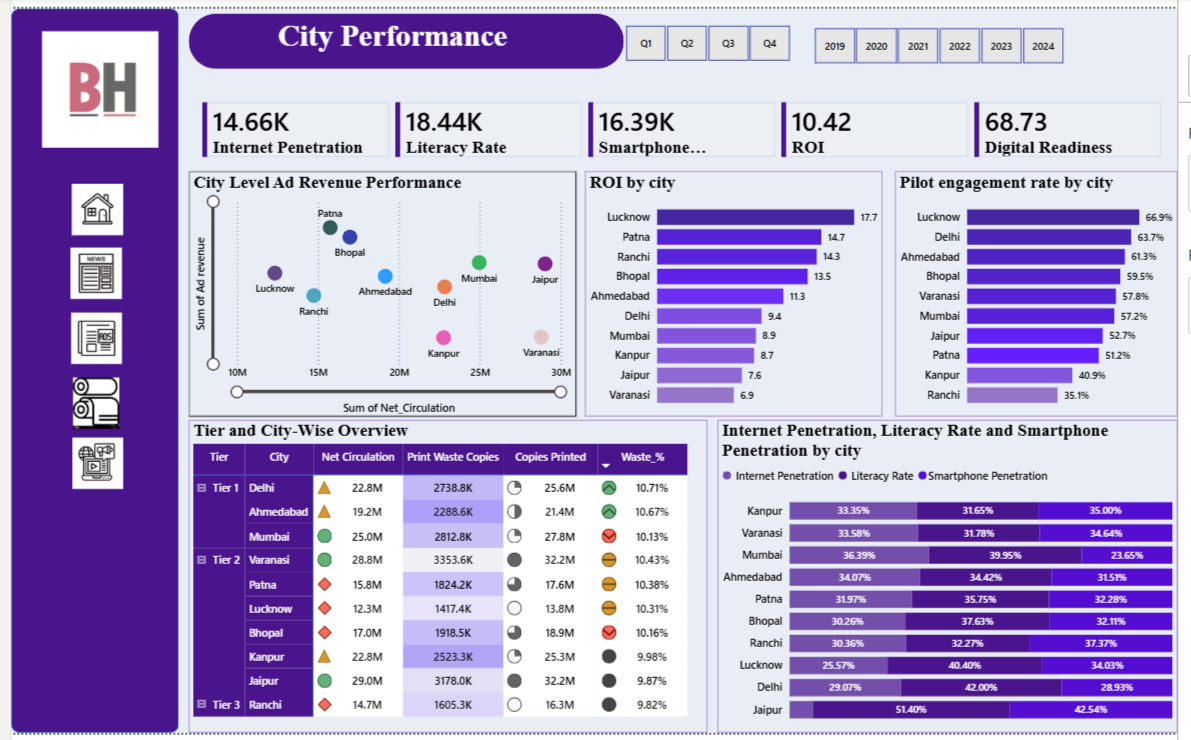

Layout of this report page (visuals, bound fields, positions):
{"tool":"powerbi","page":{"name":"City Performance ","canvas":[1450,900],"ordinal":3},"visuals":[{"type":"shape","box":[220.7,6.2,541,68.4],"z":0},{"type":"shape","box":[0,0,208.1,900.3],"z":1000},{"type":"textbox","box":[233.2,6.2,491.2,65.3],"z":2000},{"type":"scatterChart","title":"City Level Ad Revenue Performance ","fields":{"Y":["Sum(fact_ad_revenue.Ad revenue)"],"X":["Sum(fact_print_sales.Net_Circulation)"],"Category":["dim_city.city"]},"box":[220.7,202.1,481.9,304.7],"z":3000},{"type":"barChart","fields":{"Category":["dim_city.city"],"Y":["fact_print_sales.ROI"]},"box":[713.5,202.1,370,304.7],"z":4000},{"type":"hundredPercentStackedBarChart","fields":{"Category":["dim_city.city"],"Y":["Sum(fact_city_readiness.internet_penetration)","Sum(fact_city_readiness.literacy_rate)","Sum(fact_city_readiness.smartphone_penetration)"]},"box":[878.3,511.4,572,388.6],"z":5000},{"type":"pivotTable","title":"Tier and City-Wise Overview ","fields":{"Rows":["dim_city.tier","dim_city.city"],"Values":["Sum(fact_print_sales.Net_Circulation)","Sum(fact_print_sales.print_waste Copies)","Sum(fact_print_sales.Copies_printed)","fact_print_sales.waste_%"]},"box":[220.7,511.4,645.1,388.6],"z":6000},{"type":"slicer","fields":{"Values":["fact_print_sales.Year"]},"box":[973.1,17.1,359.1,57.5],"z":8000},{"type":"slicer","fields":{"Values":["dim_date.quarter"]},"box":[738.4,14,253.4,57.5],"z":9000},{"type":"barChart","title":"Pilot engagement rate by city","fields":{"Category":["dim_city.city"],"Y":["fact_digital_pilot.pilot engagemnt rat"]},"box":[1099,202.1,351.3,304.7],"z":11000},{"type":"cardVisual","fields":{"Data":["Sum(fact_city_readiness.internet_penetration)","Sum(fact_city_readiness.literacy_rate)","Sum(fact_city_readiness.smartphone_penetration)","fact_print_sales.ROI","fact_city_readiness.avg digital readiness index"]},"box":[220.4,99.5,1229.6,102.6],"z":12000},{"type":"image","box":[57.5,533.2,100,63.7],"z":12001},{"type":"image","box":[56,458.6,99.5,63.7],"z":12002},{"type":"image","box":[56,377.7,100,63.7],"z":12003},{"type":"image","box":[56,296.9,99.5,63.7],"z":12004},{"type":"image","box":[57.5,217.6,99.5,63.7],"z":12005},{"type":"image","box":[7.8,28,205.2,144.6],"z":12006}]}

Visuals, with their boxes in screenshot pixels (x1, y1, x2, y2), scaled from the page's 1450x900 canvas onto the 1191x740 screenshot:
shape: [left=181, top=5, right=626, bottom=61]
shape: [left=0, top=0, right=171, bottom=739]
textbox: [left=192, top=5, right=595, bottom=59]
"City Level Ad Revenue Performance " scatterChart: [left=181, top=166, right=577, bottom=417]
barChart - dim_city.city x fact_print_sales.ROI: [left=586, top=166, right=890, bottom=417]
hundredPercentStackedBarChart - dim_city.city x Sum(fact_city_readiness.internet_penetration): [left=721, top=420, right=1190, bottom=739]
"Tier and City-Wise Overview " pivotTable: [left=181, top=420, right=711, bottom=739]
slicer - fact_print_sales.Year: [left=799, top=14, right=1094, bottom=61]
slicer - dim_date.quarter: [left=607, top=12, right=815, bottom=59]
"Pilot engagement rate by city" barChart: [left=903, top=166, right=1190, bottom=417]
cardVisual - Sum(fact_city_readiness.internet_penetration) x Sum(fact_city_readiness.literacy_rate): [left=181, top=82, right=1190, bottom=166]
image: [left=47, top=438, right=129, bottom=491]
image: [left=46, top=377, right=128, bottom=429]
image: [left=46, top=311, right=128, bottom=363]
image: [left=46, top=244, right=128, bottom=296]
image: [left=47, top=179, right=129, bottom=231]
image: [left=6, top=23, right=175, bottom=142]
